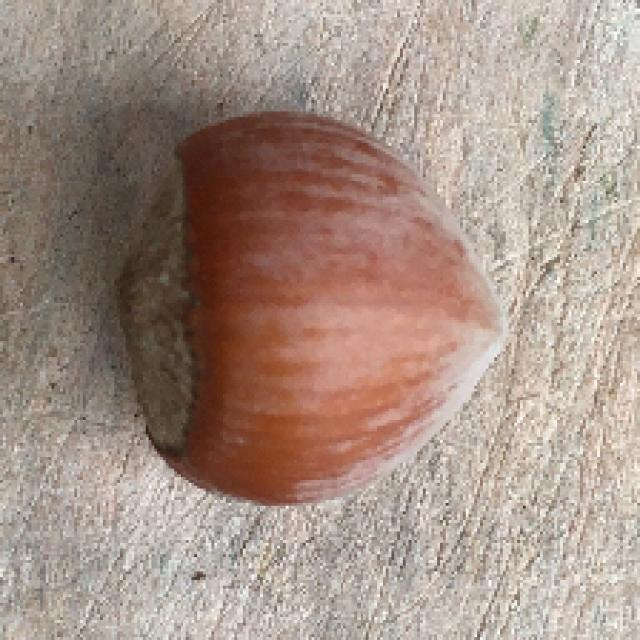qualityHazelnut: (119, 115, 512, 520)
